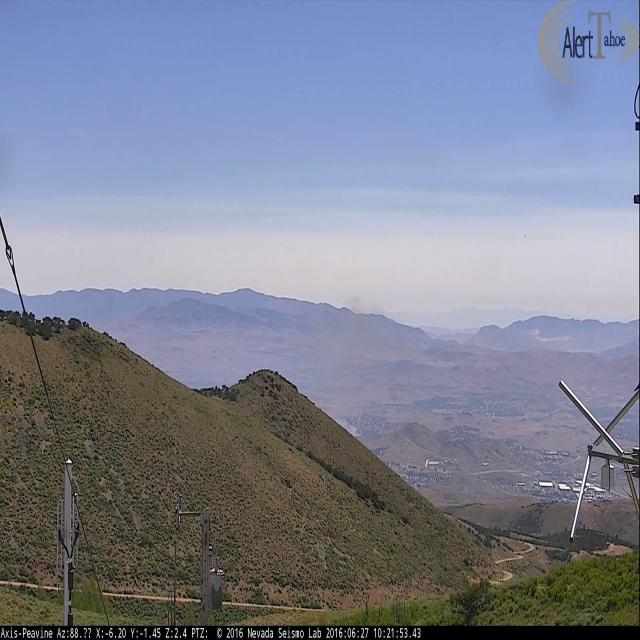smoke: (311, 289, 394, 423)
